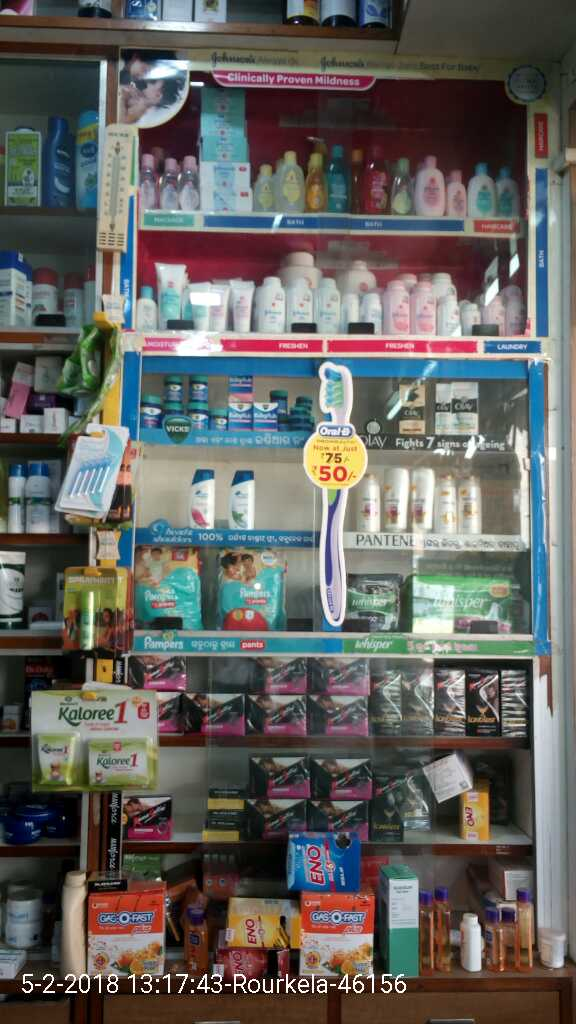vicks: (128, 363, 329, 434)
